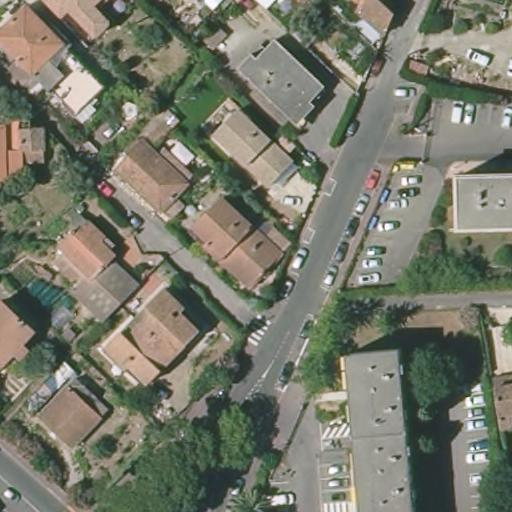pool: (25, 274, 78, 315)
